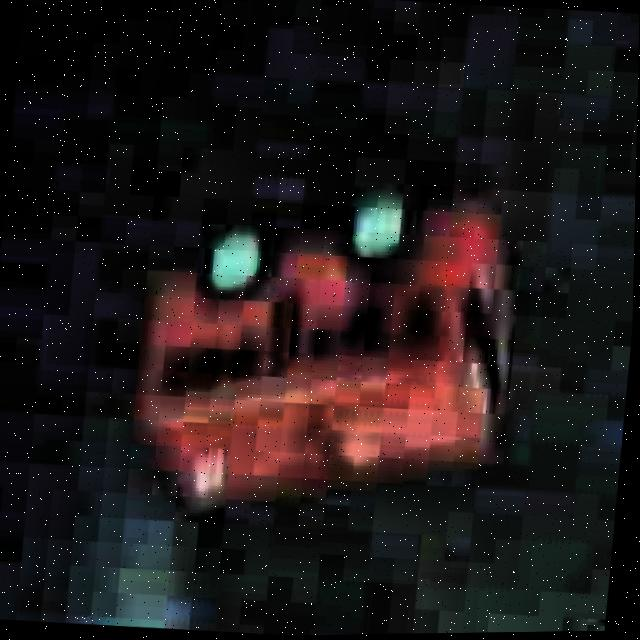bus: (112, 158, 539, 540)
